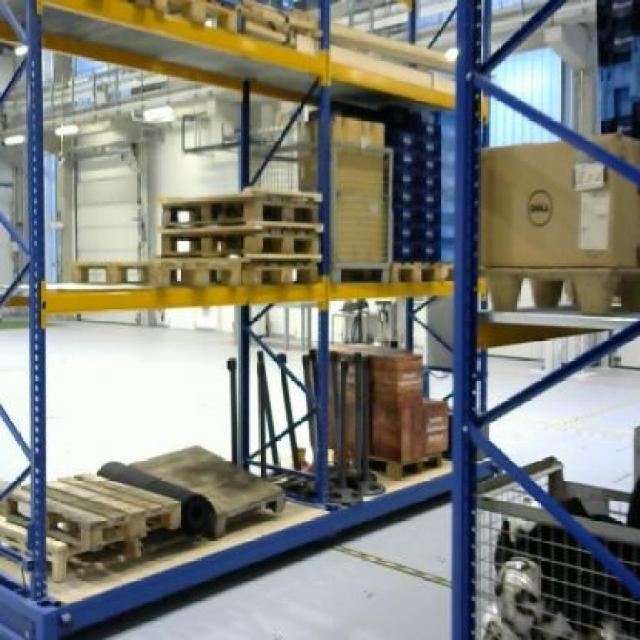box: (479, 131, 636, 267), (330, 113, 384, 259)
